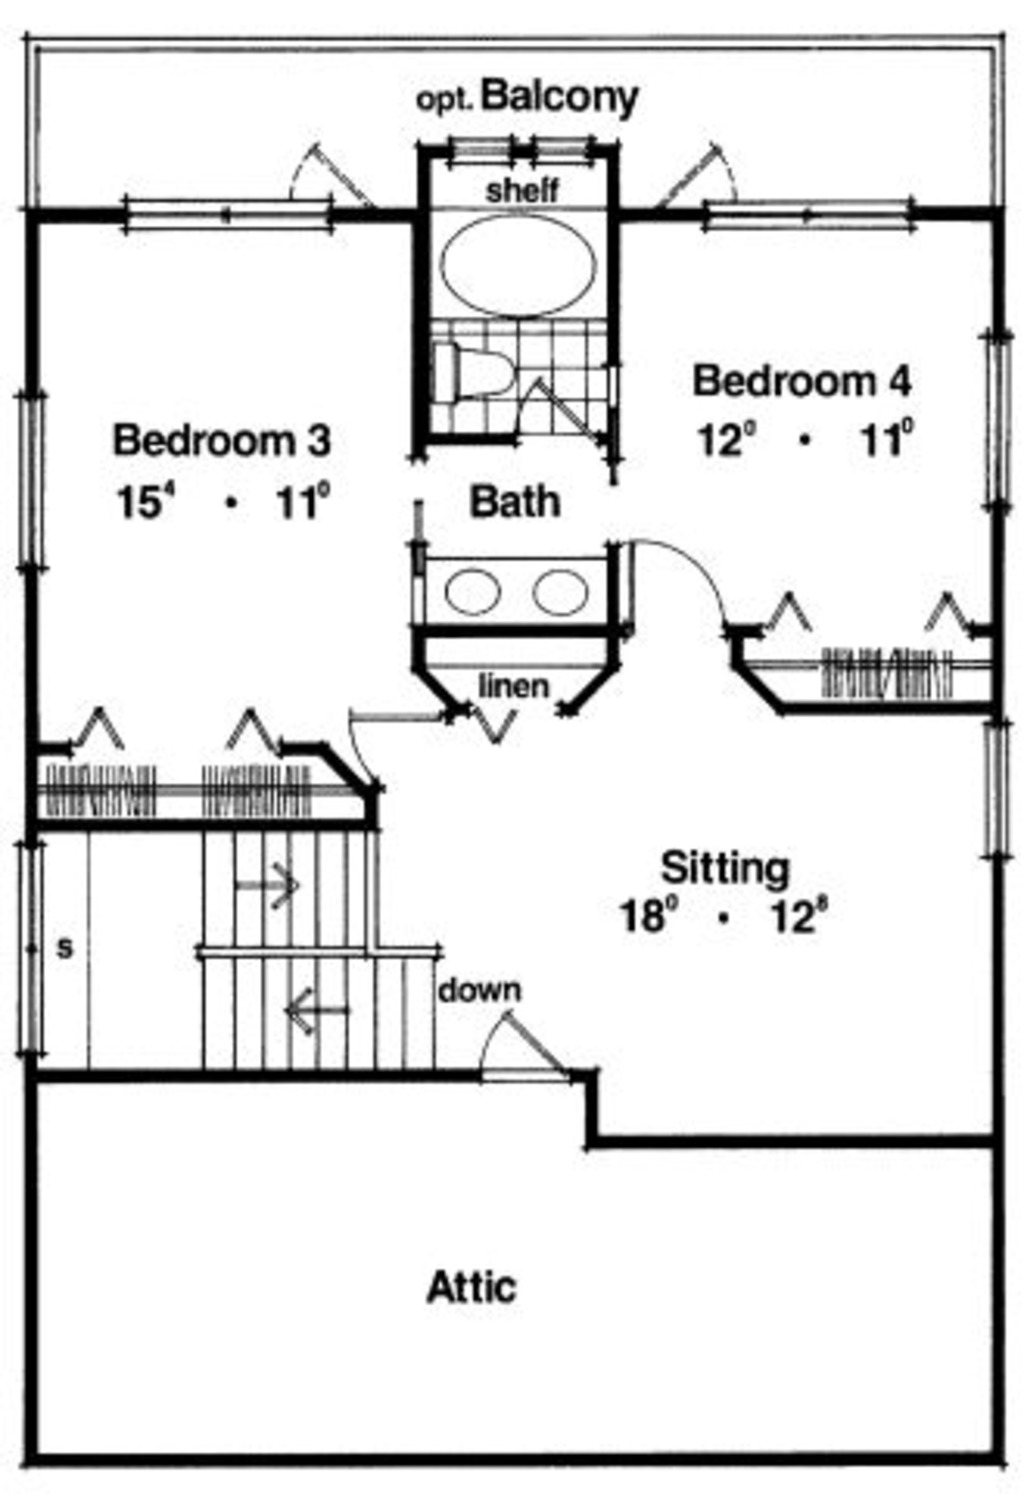door: (610, 537, 756, 660), (324, 689, 453, 784), (628, 121, 744, 215), (276, 133, 376, 212), (506, 385, 608, 439)
large_sink: (423, 319, 515, 398)
small_sink: (419, 546, 597, 628)
stairs: (15, 824, 482, 1076)
tub: (433, 194, 606, 333)
window: (117, 185, 331, 246), (697, 187, 922, 240), (12, 380, 74, 564), (981, 712, 1017, 876), (983, 324, 1010, 519)
